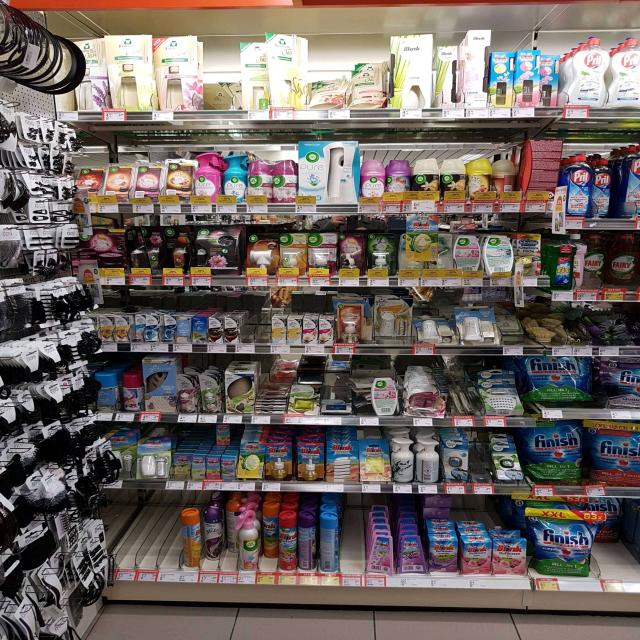void: (118, 498, 178, 568), (601, 508, 638, 582), (342, 512, 364, 572), (245, 310, 271, 344)
